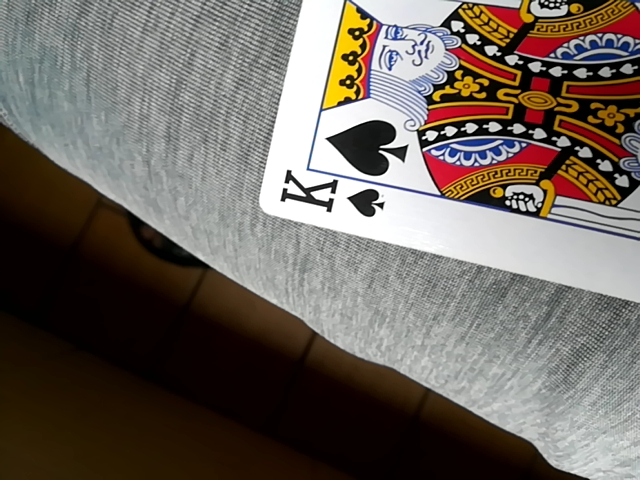ht k: (259, 4, 639, 327)
